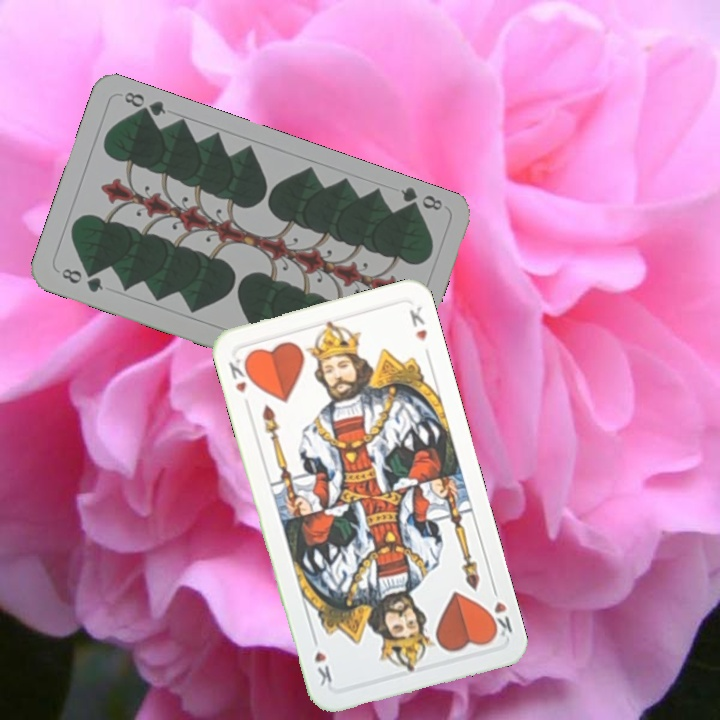G8: (396, 183, 445, 217), (57, 264, 106, 295)
HK: (482, 581, 515, 642), (224, 353, 255, 396)
